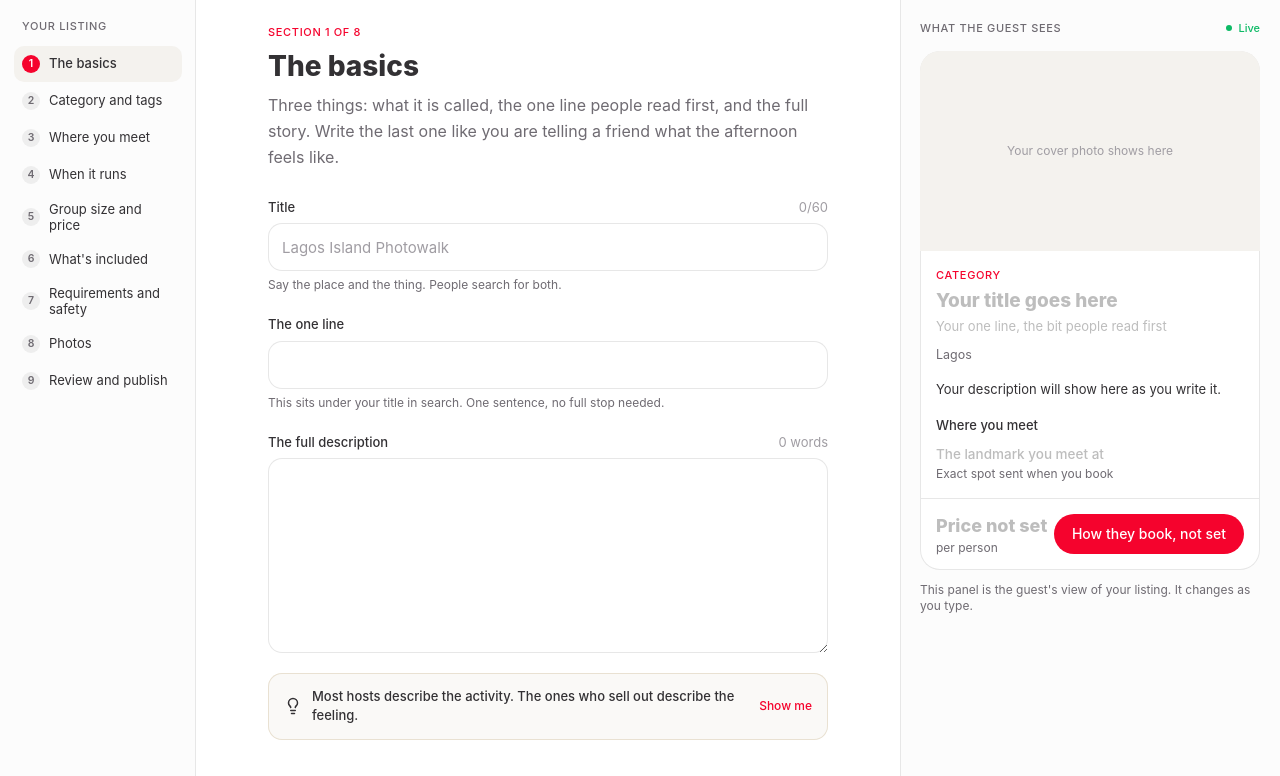
Test: the listing builder › opens on the basics and the guest preview follows what is typed
Expected: the heading "The basics" is shown, [268, 48, 419, 82]
Type "Island Walk" into the field labelled "Title" at (548, 247), box [268, 223, 828, 271]
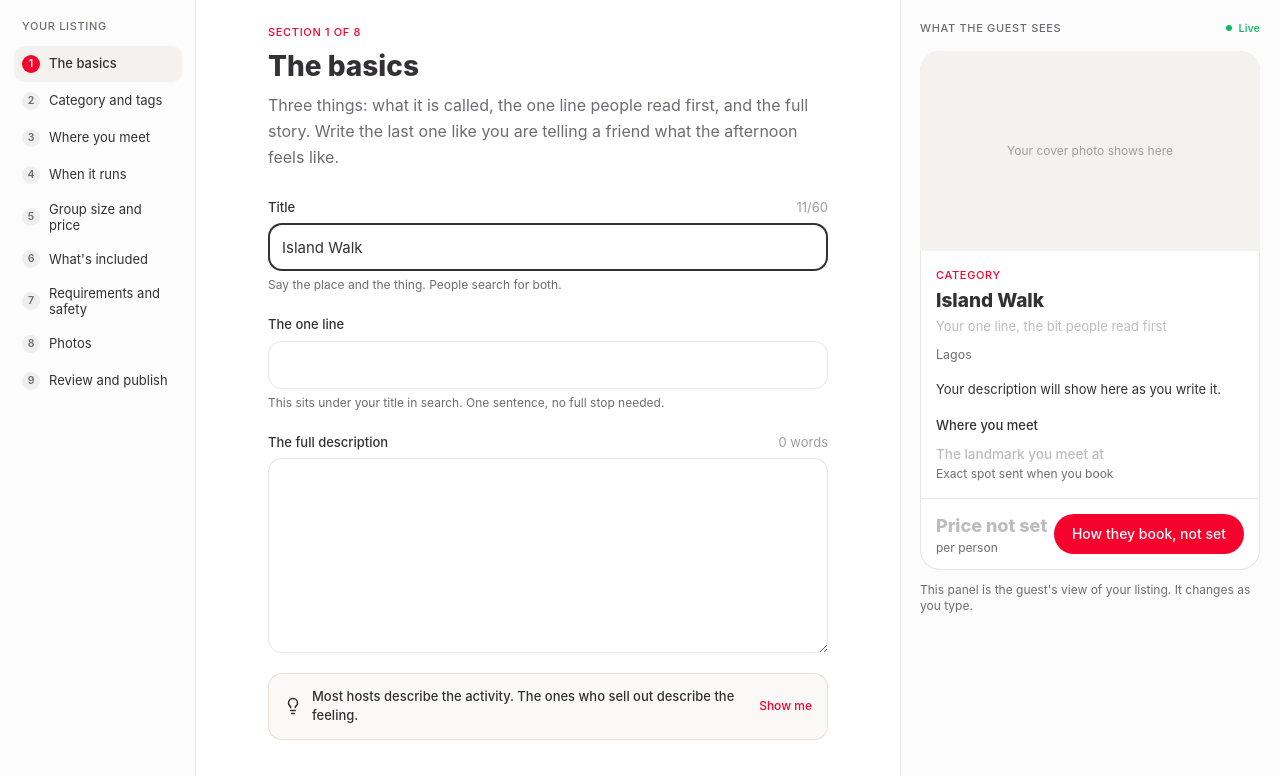
Result: the text "Island Walk" is shown at [936, 289, 1044, 312]
Result: the text "11/60" is shown at [796, 198, 828, 217]
